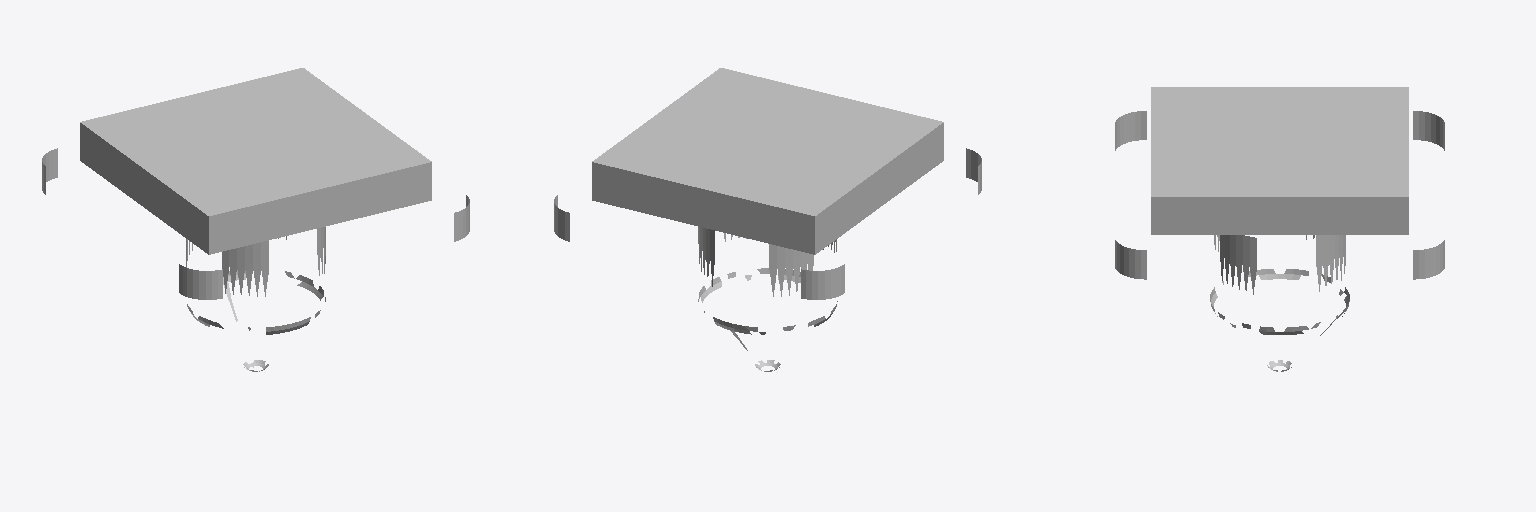
Rendered from 180709 Foot B.obj.
3 renders of one model, left to right at view 1: azimuth 30°, elevation 25°; view 2: azimuth 150°, elevation 25°; view 3: azimuth 270°, elevation 25°, orthographic.
Size of the model in its own units: 0.1025 by 0.078 by 0.1025.